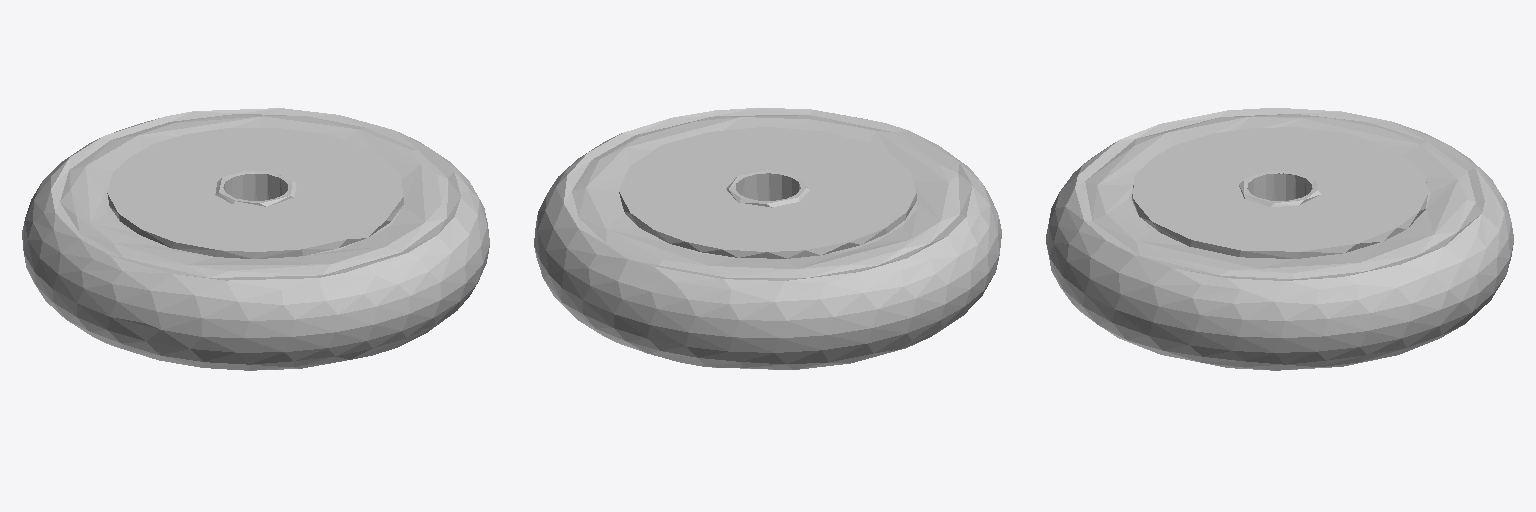
File: wheel.obj
3 renders of one model, left to right at view 1: azimuth 30°, elevation 25°; view 2: azimuth 150°, elevation 25°; view 3: azimuth 270°, elevation 25°, orthographic.
Size of the model in its own units: 0.1584 by 0.0516 by 0.1584.